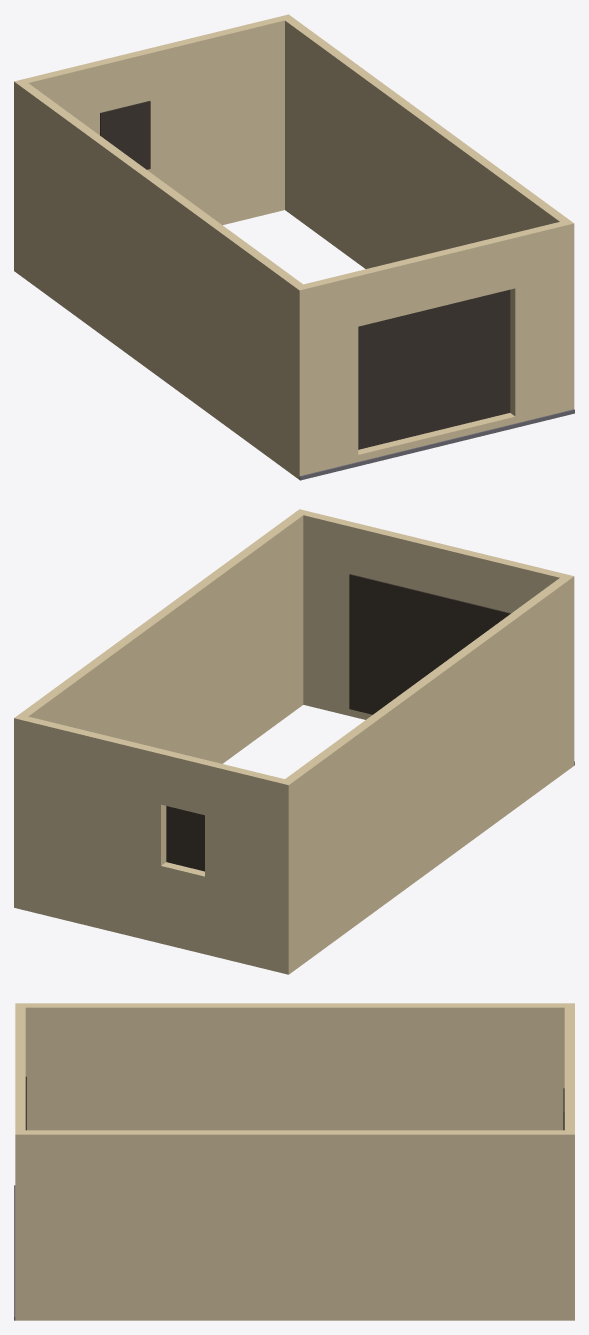
The model's file is SM_Floor_NarrowUpperBalcony_Yellow_455_Back_01.gltf.
3 views of the same model, one above another, from view 1: azimuth 30°, elevation 25°; view 2: azimuth 150°, elevation 25°; view 3: azimuth 270°, elevation 25° (orthographic). The views are drawn at different scales.
Parts seen in each view (by area): view 1: SM_Floor_NarrowUpperBalcony_Yellow_455_Back_01; view 2: SM_Floor_NarrowUpperBalcony_Yellow_455_Back_01; view 3: SM_Floor_NarrowUpperBalcony_Yellow_455_Back_01.
Part boxes in pixels (<box>): SM_Floor_NarrowUpperBalcony_Yellow_455_Back_01: <box>14,14,574,480</box>; SM_Floor_NarrowUpperBalcony_Yellow_455_Back_01: <box>14,509,574,974</box>; SM_Floor_NarrowUpperBalcony_Yellow_455_Back_01: <box>14,1003,574,1320</box>.
Bounding box in the file's own units: 4.55 × 3 × 8.21.
1 material, 1 textured.
